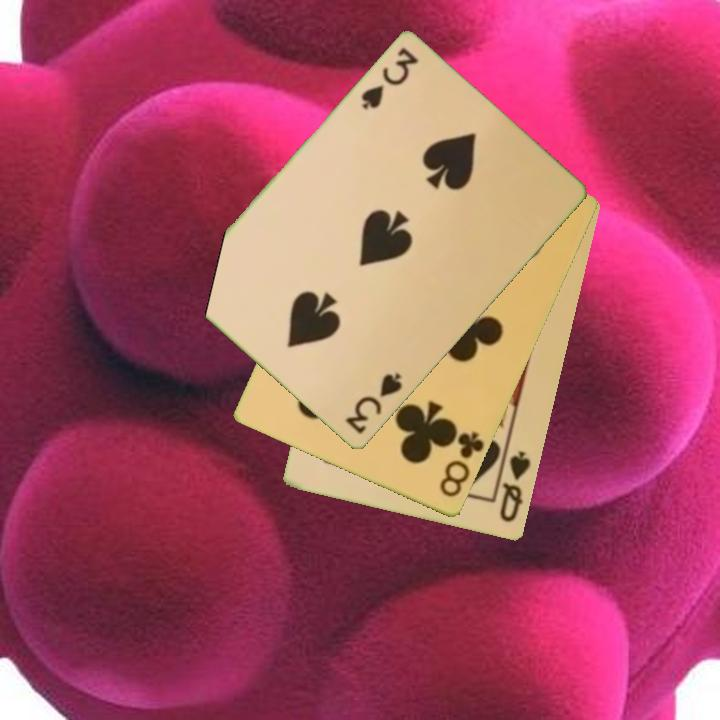3s: (358, 44, 422, 114), (342, 370, 406, 438)
8c: (436, 427, 487, 501)
Qs: (496, 447, 534, 526)
